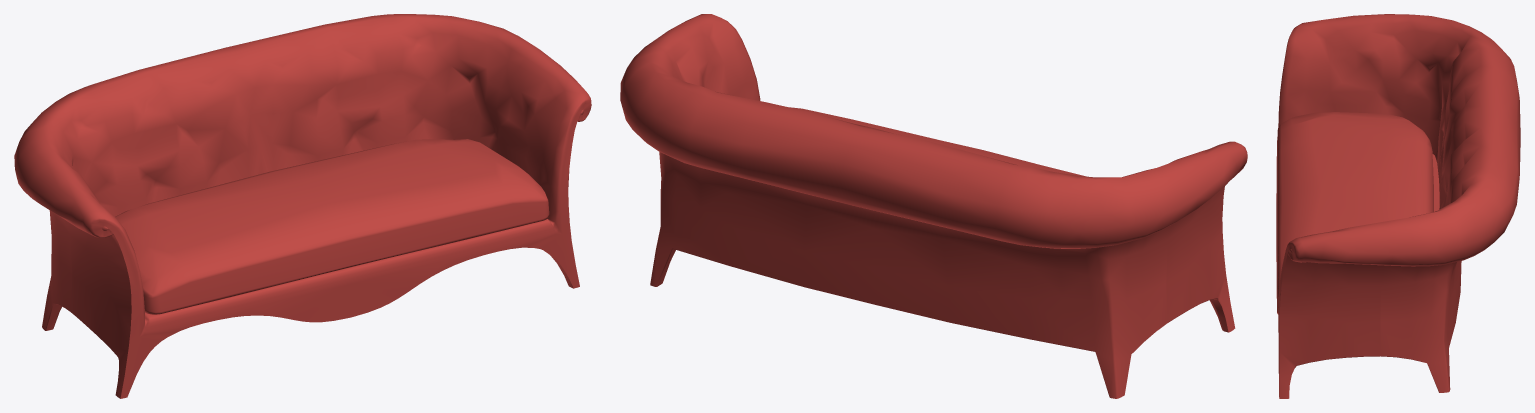
File: sofa.glb
3 renders of one model, left to right at view 1: azimuth 30°, elevation 25°; view 2: azimuth 150°, elevation 25°; view 3: azimuth 270°, elevation 25°, orthographic. The views are drawn at different scales.
Parts seen in each view (by area): view 1: Sofa_Base, Sofa_Seat; view 2: Sofa_Base, Sofa_Seat; view 3: Sofa_Base, Sofa_Seat.
Part boxes in pixels (x1,y1,x2,y2): Sofa_Base: (14, 14, 591, 398); Sofa_Seat: (115, 139, 549, 314); Sofa_Base: (620, 14, 1247, 398); Sofa_Seat: (789, 107, 1086, 176); Sofa_Base: (1278, 14, 1520, 398); Sofa_Seat: (1276, 112, 1433, 314).
Bounding box in the file's own units: 1.81 × 0.7095 × 0.8178.
